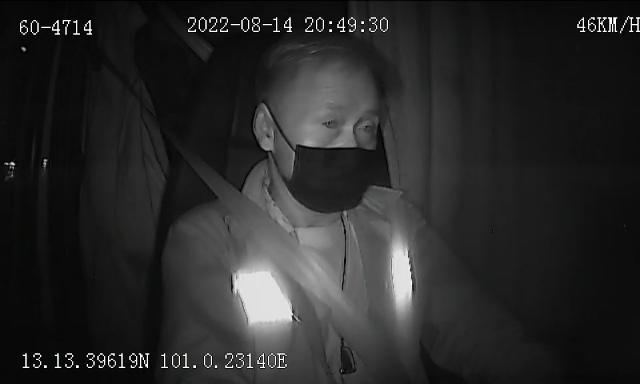SafeDriving: (312, 110, 348, 134), (350, 112, 383, 137)
Seatbelt: (187, 154, 369, 384)
